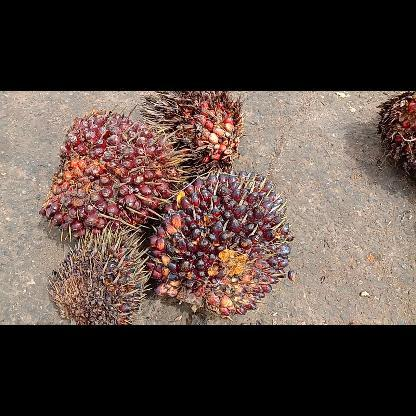Kurang masak: (145, 169, 294, 320)
TBS abnormal: (44, 226, 148, 324)
TBS masak: (36, 107, 184, 245)
Terlalu masak: (138, 92, 242, 174)
